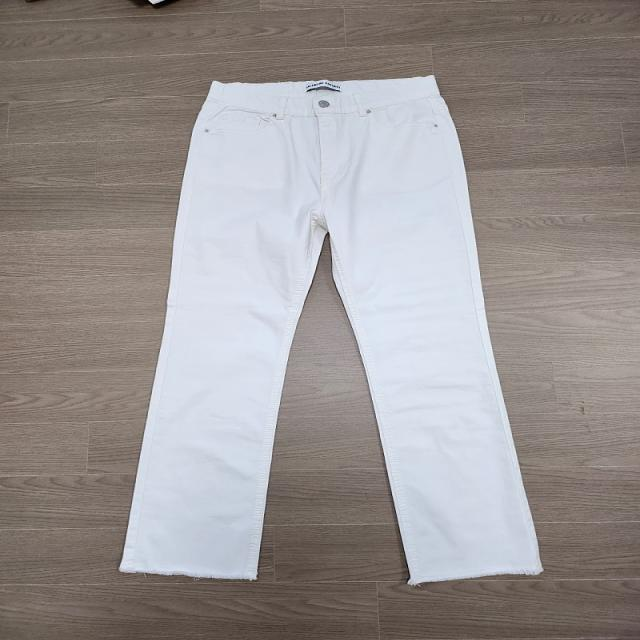long-pants: (117, 72, 544, 586)
